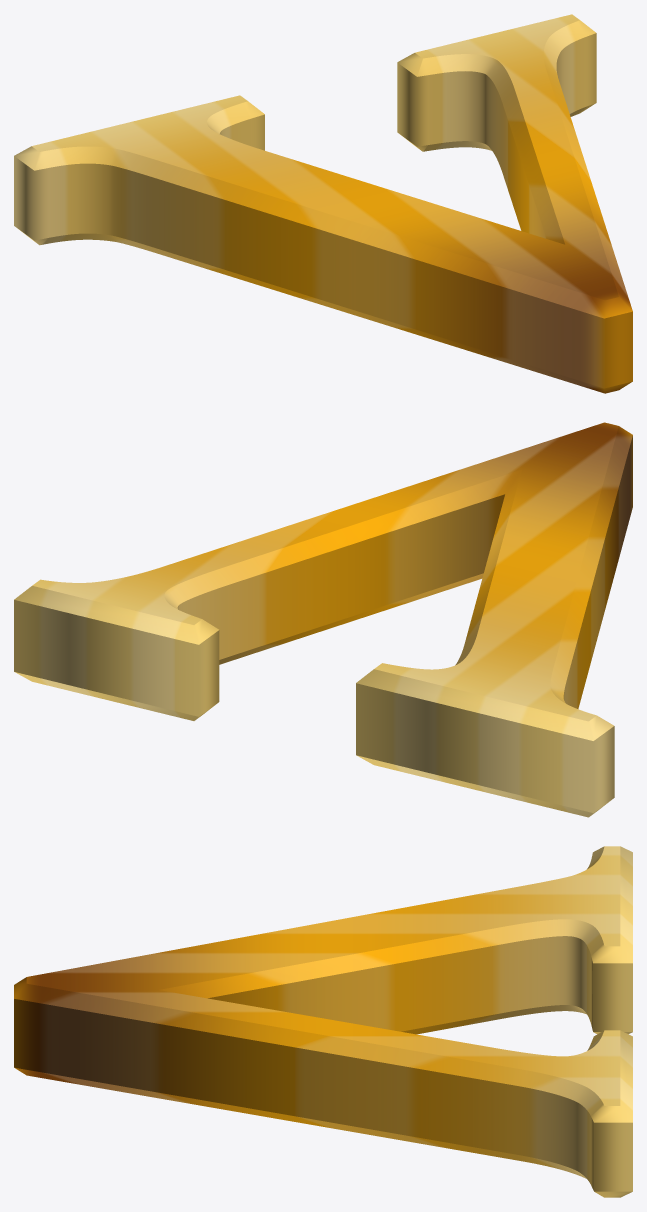
File: number5.fbx
3 views of the same model, one above another, from view 1: azimuth 30°, elevation 25°; view 2: azimuth 150°, elevation 25°; view 3: azimuth 270°, elevation 25° (orthographic). The views are drawn at different scales.
Visible parts, largest first — view 1: number5; view 2: number5; view 3: number5.
Boxes of the visible parts, x1,y1,x2,y2 form: number5: (14,14,632,393); number5: (14,422,632,817); number5: (14,846,632,1197).
Size of the model in its own units: 0.5558 by 0.088 by 0.5376.
